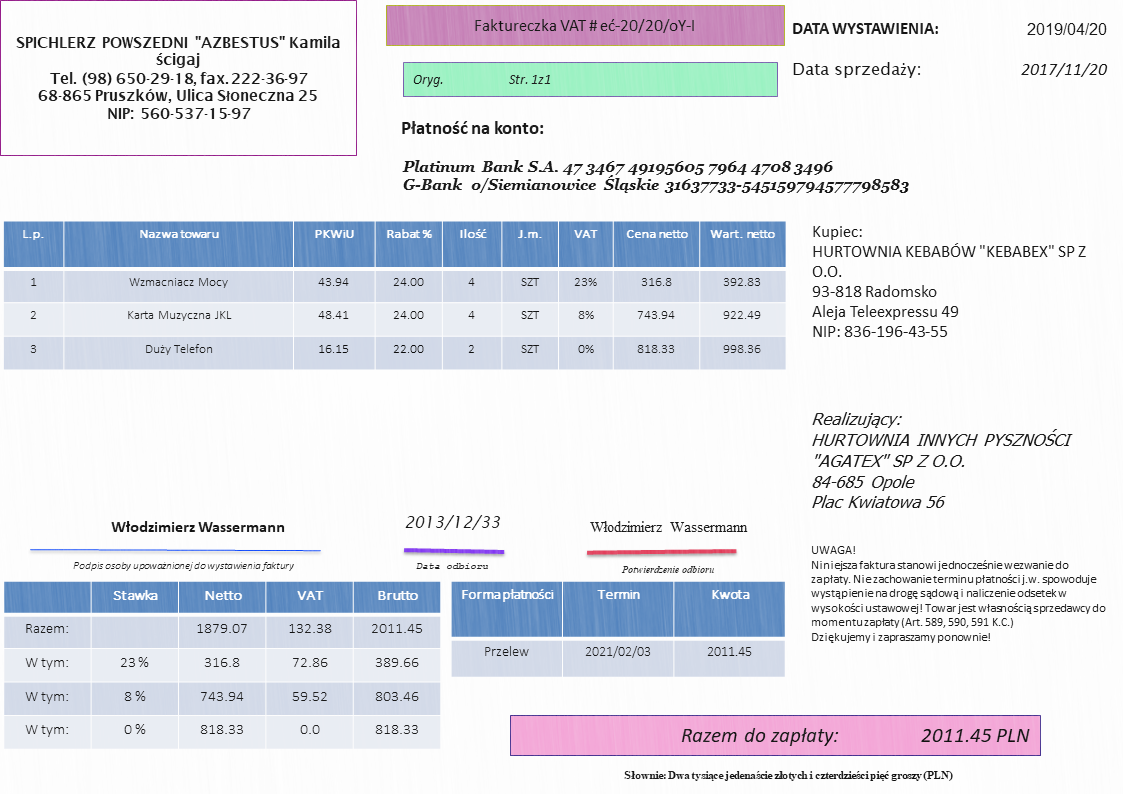Table: (1, 218, 789, 372), (2, 579, 443, 751), (449, 579, 789, 679)
TextBox: (809, 222, 1089, 343), (808, 542, 1111, 645), (13, 32, 345, 124), (808, 406, 1075, 516), (399, 155, 915, 199), (676, 722, 1033, 750), (620, 765, 957, 785), (469, 14, 697, 36), (107, 514, 289, 538), (69, 556, 297, 574), (791, 15, 942, 40), (399, 116, 546, 141), (585, 516, 752, 536), (791, 59, 924, 81), (411, 69, 554, 89), (401, 510, 503, 533), (1017, 58, 1109, 80), (1024, 17, 1111, 38), (410, 556, 493, 574), (618, 562, 717, 577)
